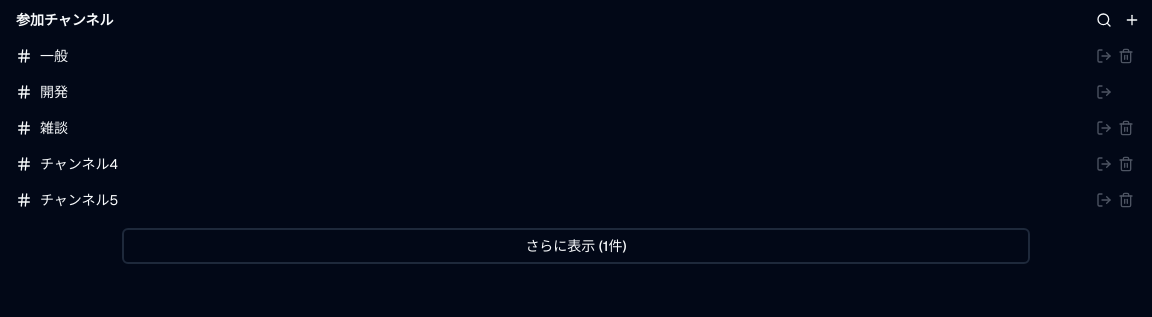
Test: ChannelList - チャンネル一覧コンポーネント › さらに表示機能 › 「さらに表示」ボタンをクリックすると全てのチャンネルが表示される
The width and height of the screenshot is (1152, 317).
Click the button "さらに表示 (1件)".
click(576, 246)  # box left=122, top=228, right=1030, bottom=264
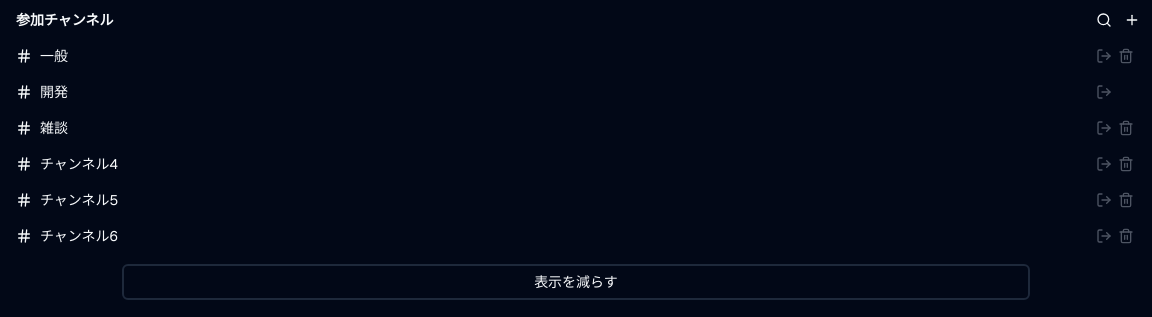
Expected: the text "チャンネル6" is shown, left=40, top=226, right=118, bottom=246
Expected: the button "表示を減らす" is shown, left=122, top=264, right=1030, bottom=300
